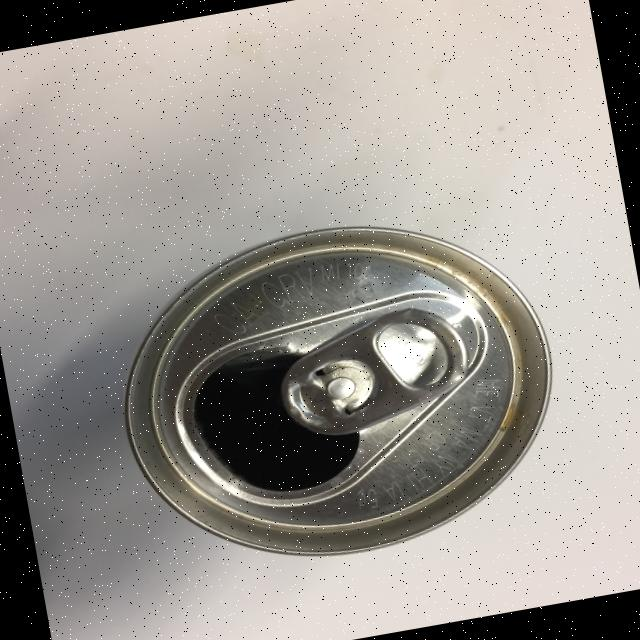metal: (96, 192, 578, 588)
